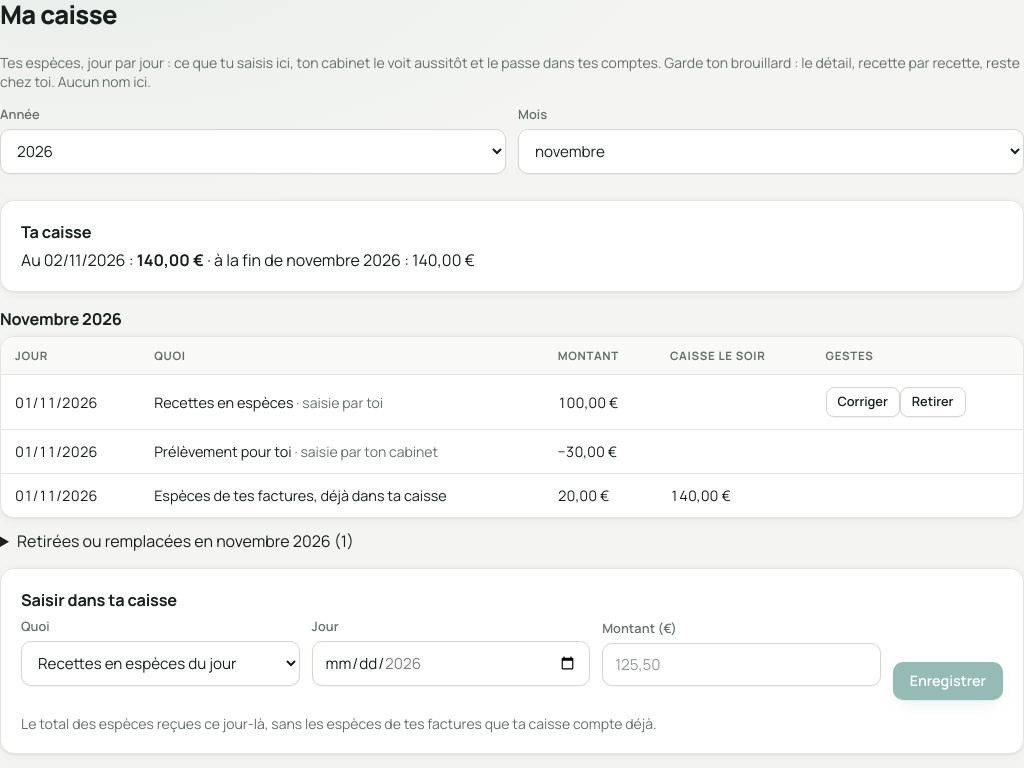
Test: les gestes › dit le refus de la base après le clic, et relit
Expected: the heading "Novembre 2026" is shown, left=0, top=308, right=122, bottom=330
Click the button "Retirer": [933, 402] box left=900, top=387, right=966, bottom=417
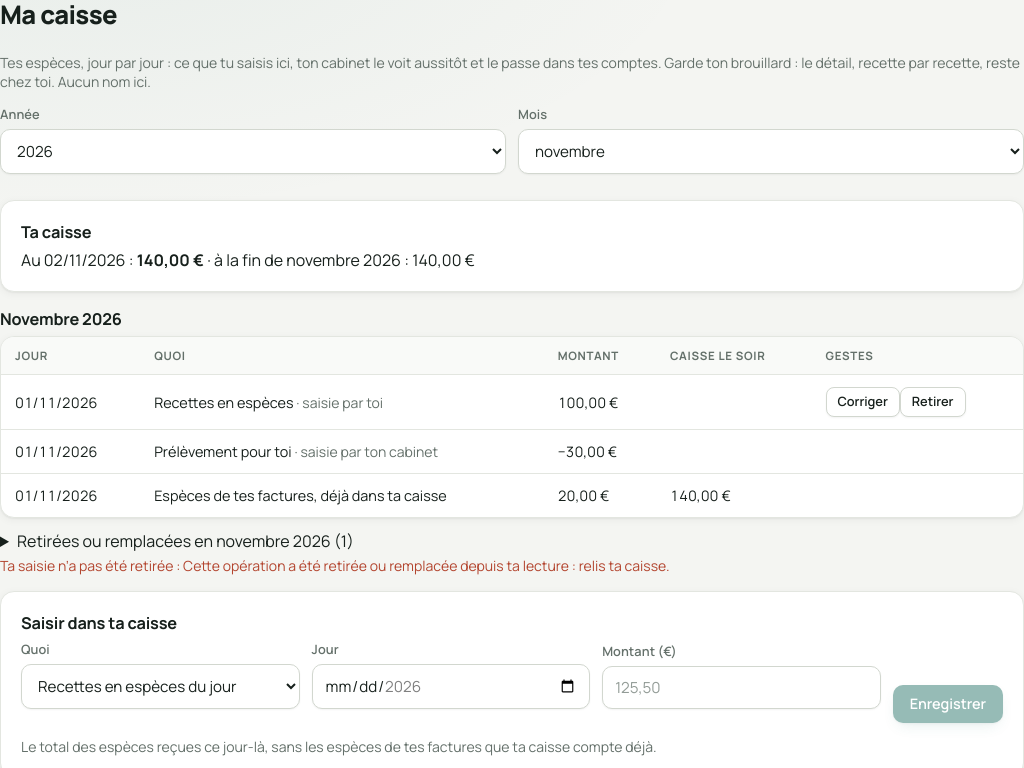
Expected: the message shows "Ta saisie n’a pas été retirée : Cette opération a été retirée ou remplacée depuis ta lecture : relis ta caisse.", left=0, top=556, right=670, bottom=575
